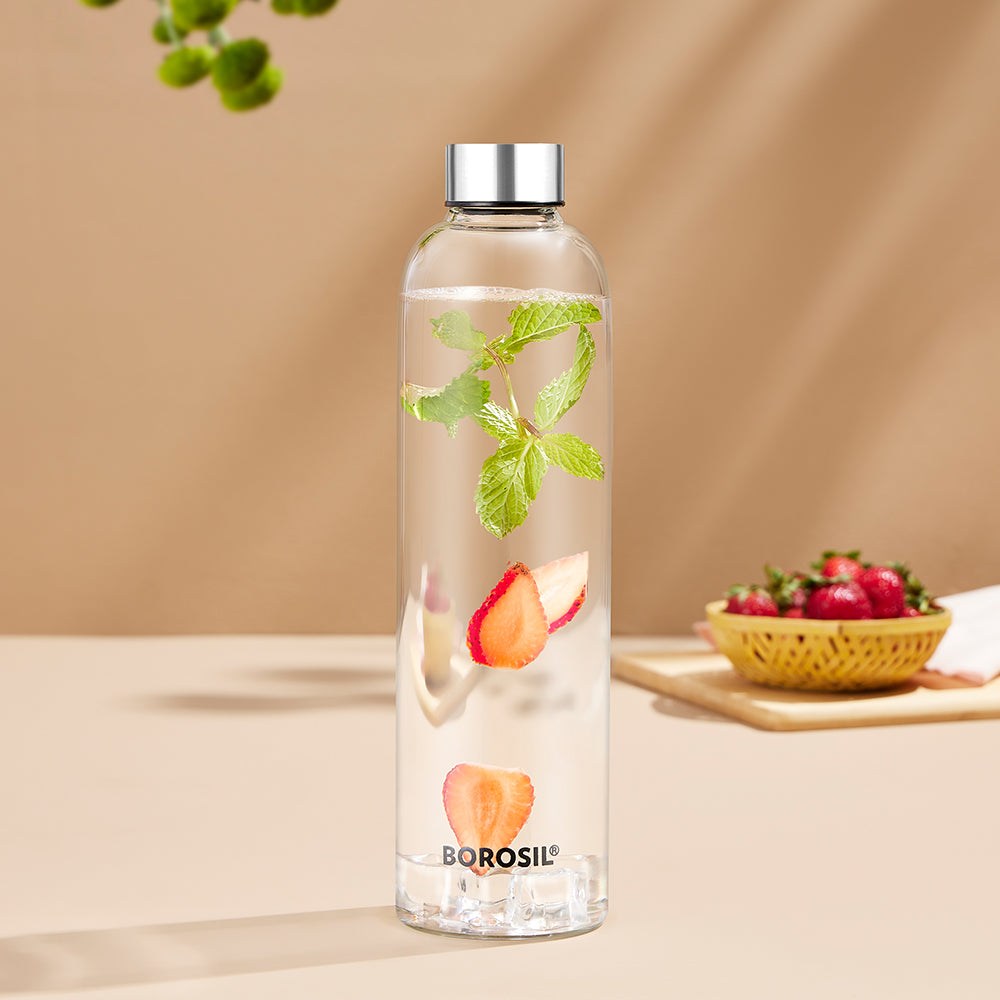glass_bottle: (370, 123, 640, 958)
